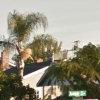Tree: (68, 43, 100, 90)
